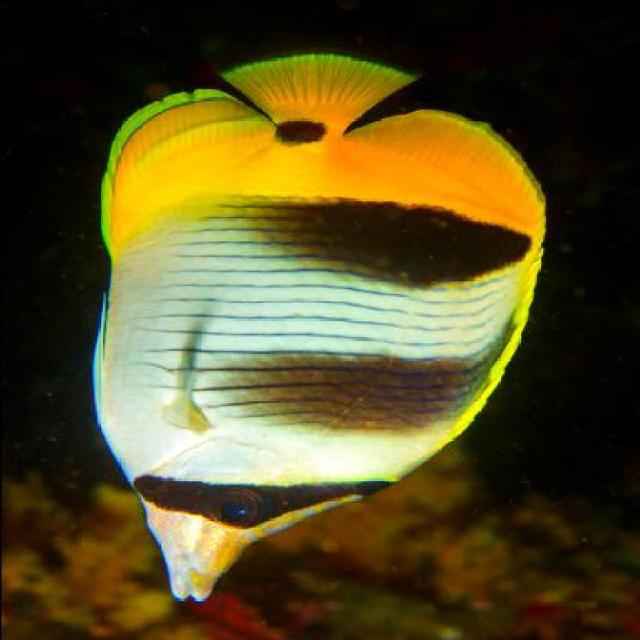ButterflyFish: (89, 52, 548, 600)
